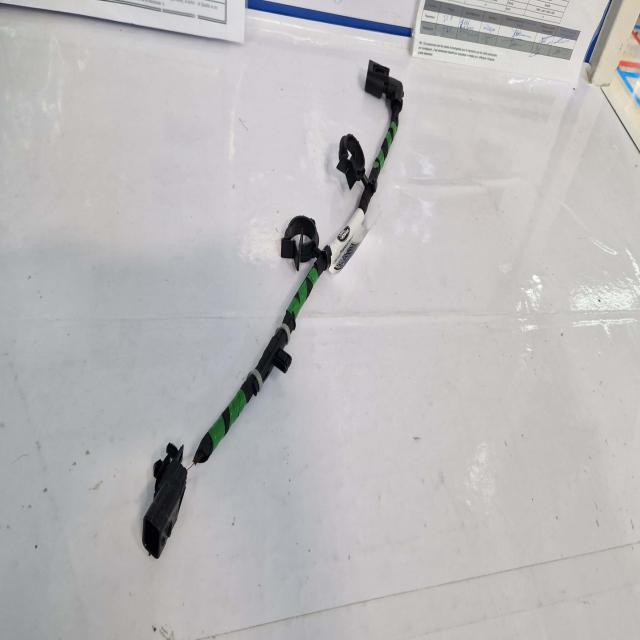AJ20_D6_Cable: (191, 60, 402, 464)
Clip: (280, 216, 320, 271), (336, 133, 368, 189), (151, 444, 176, 482)
Connector: (140, 460, 185, 560), (364, 60, 402, 111)
Info: (329, 209, 366, 271)
strap: (249, 324, 290, 391), (249, 369, 261, 391), (278, 324, 289, 344), (284, 311, 294, 329)
